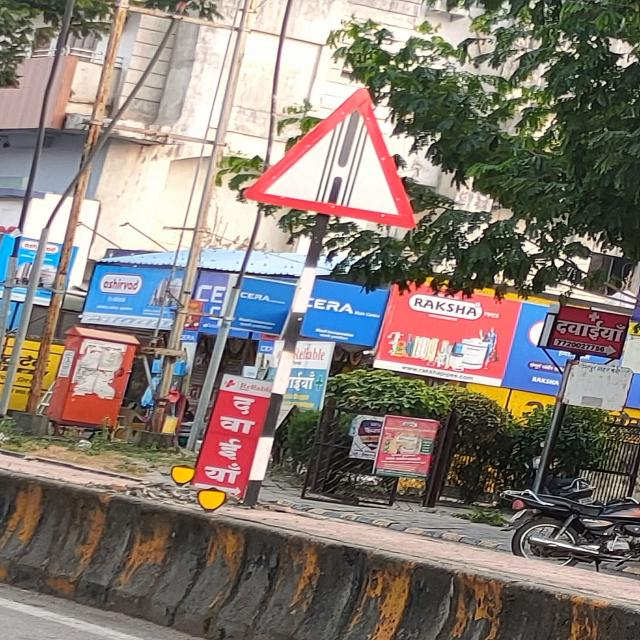ferry: (243, 87, 418, 231)
